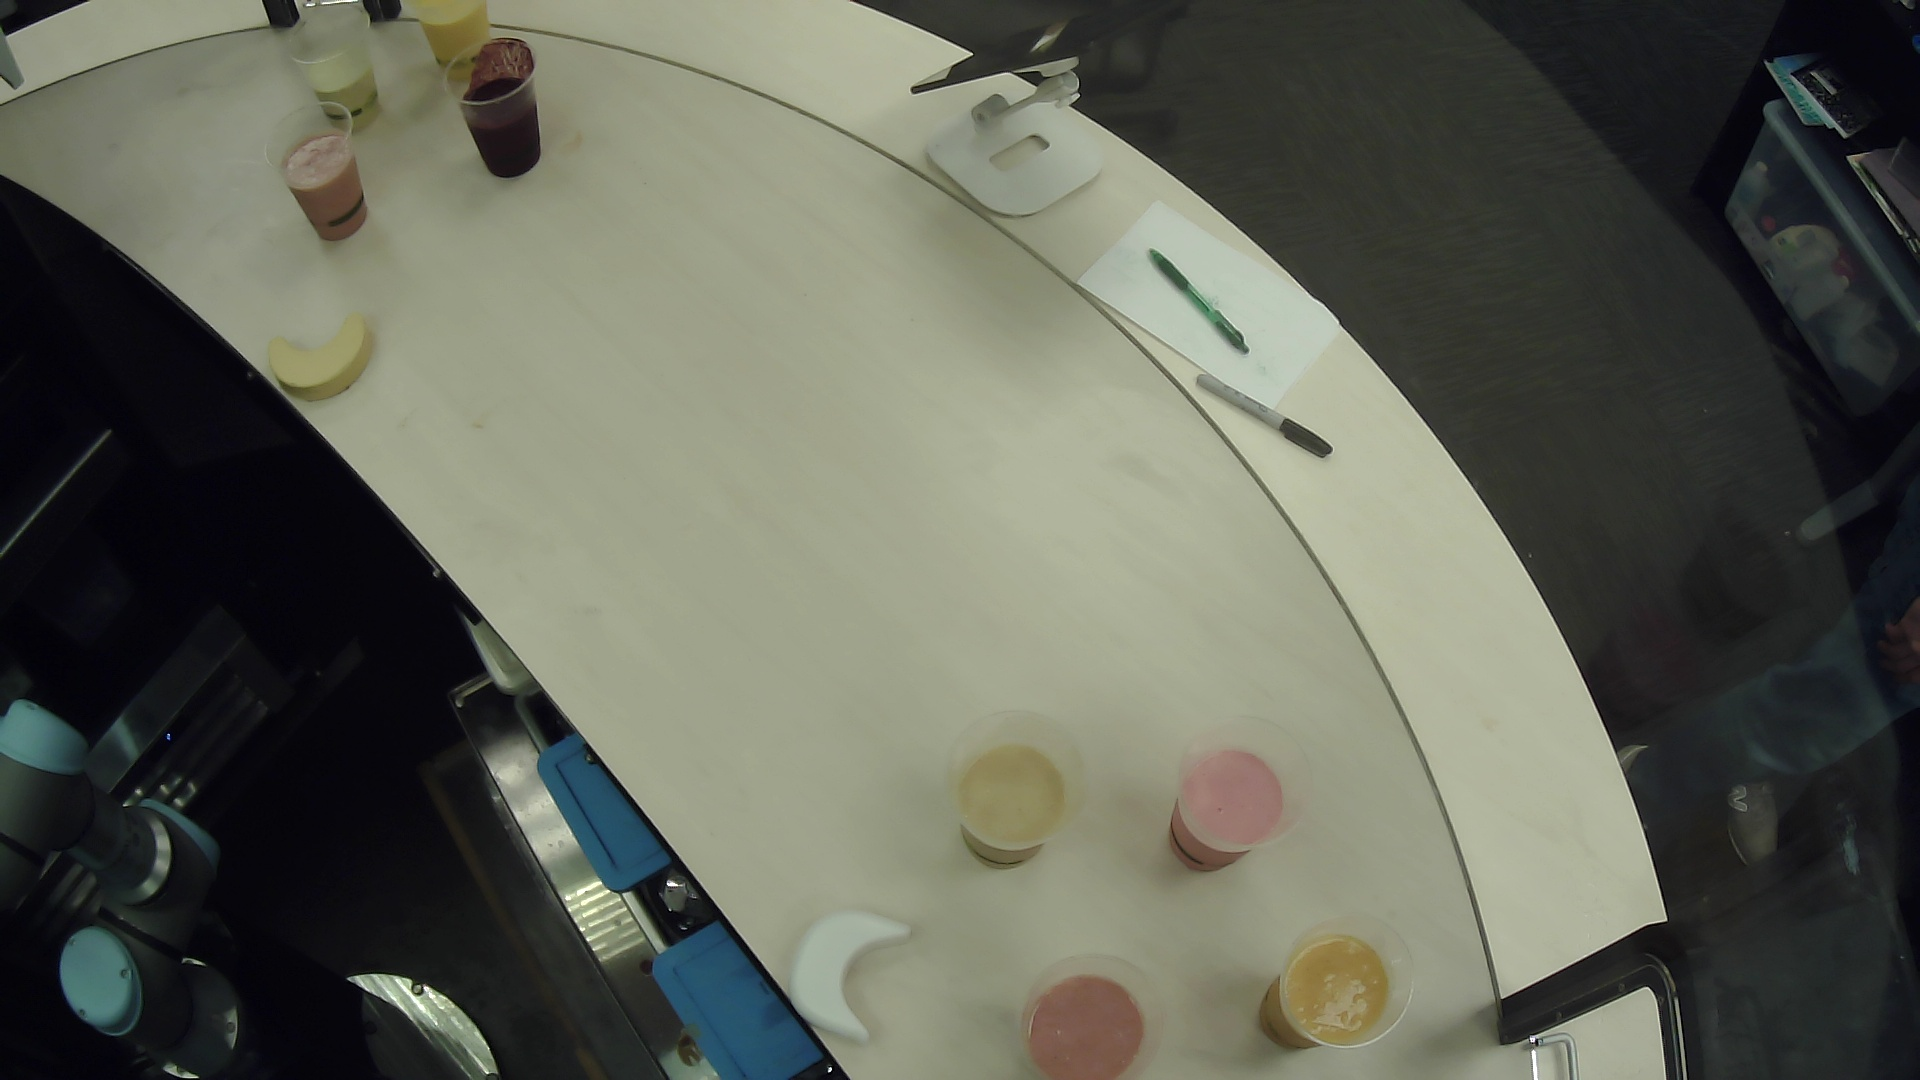Deliver: (756, 899, 953, 1058), (247, 295, 392, 411)
Full_cup: (1150, 707, 1329, 886), (930, 717, 1109, 884), (1244, 903, 1433, 1060), (425, 12, 572, 204), (980, 939, 1175, 1080), (255, 94, 394, 265), (276, 1, 407, 148), (409, 1, 501, 94)
